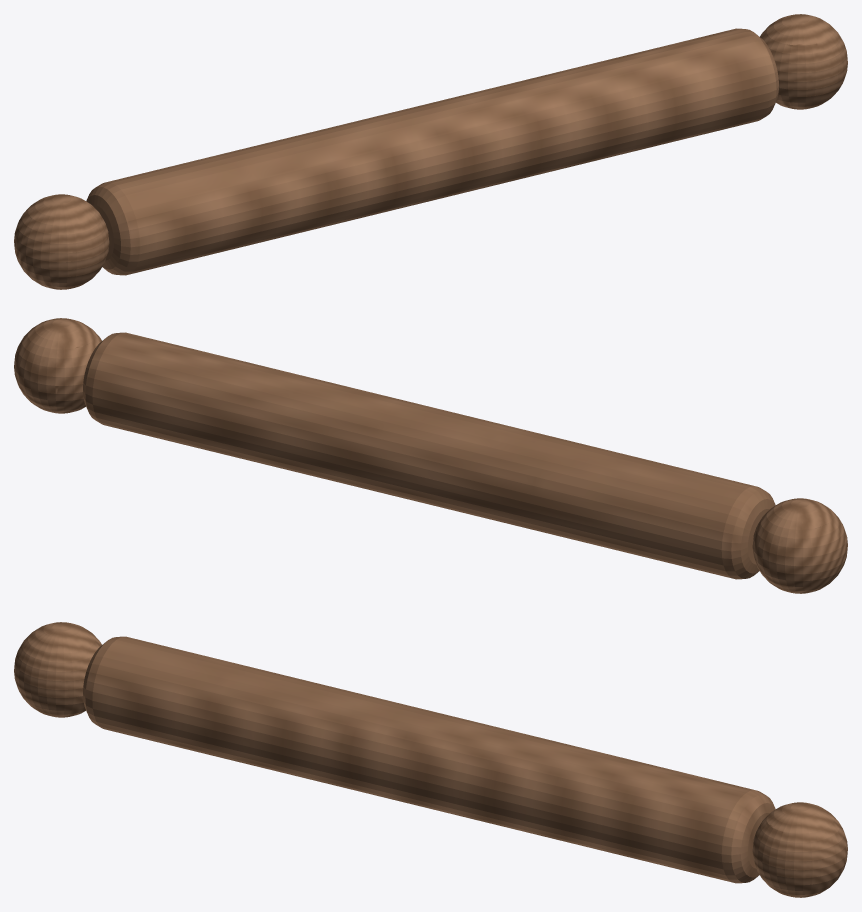
Rendered from rolling_pin.glb.
The picture shows the model from 3 angles, top to bottom: view 1: azimuth 30°, elevation 25°; view 2: azimuth 150°, elevation 25°; view 3: azimuth 330°, elevation 25°; orthographic projection.
Parts seen in each view (by area): view 1: Cylinder, Sphere.001, Sphere; view 2: Cylinder, Sphere.001, Sphere; view 3: Cylinder, Sphere, Sphere.001.
Part boxes in pixels (box(x1,y1,x2,y2)): Cylinder: box(86, 28, 778, 275); Sphere.001: box(14, 194, 109, 289); Sphere: box(760, 14, 847, 109); Cylinder: box(83, 332, 775, 579); Sphere.001: box(752, 498, 847, 593); Sphere: box(14, 318, 101, 413); Cylinder: box(83, 636, 775, 883); Sphere: box(752, 802, 847, 897); Sphere.001: box(14, 622, 101, 717).
Bounding box in the file's own units: 0.496 × 0.05 × 0.05.
1 material, 1 textured.
